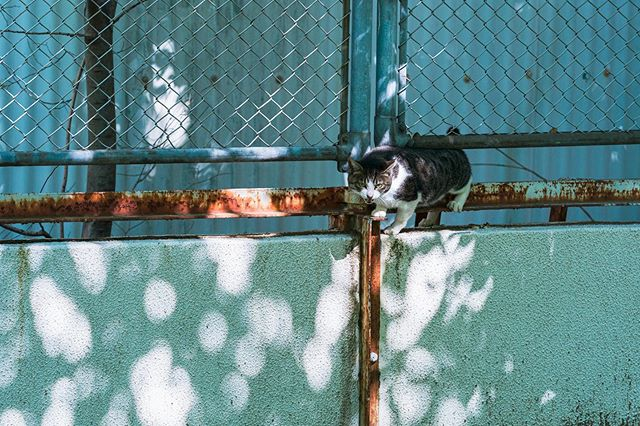animal: (336, 142, 470, 229)
